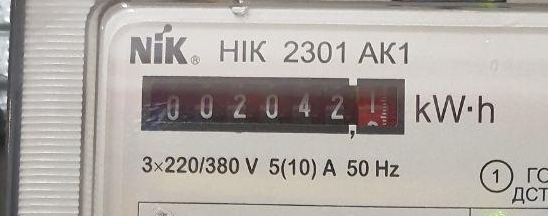0: (164, 92, 182, 122), (263, 91, 281, 121), (198, 91, 215, 122)
1: (365, 86, 379, 117)
2: (231, 92, 249, 121), (329, 92, 346, 121)
4: (296, 89, 314, 121)
screen: (137, 72, 411, 144)
